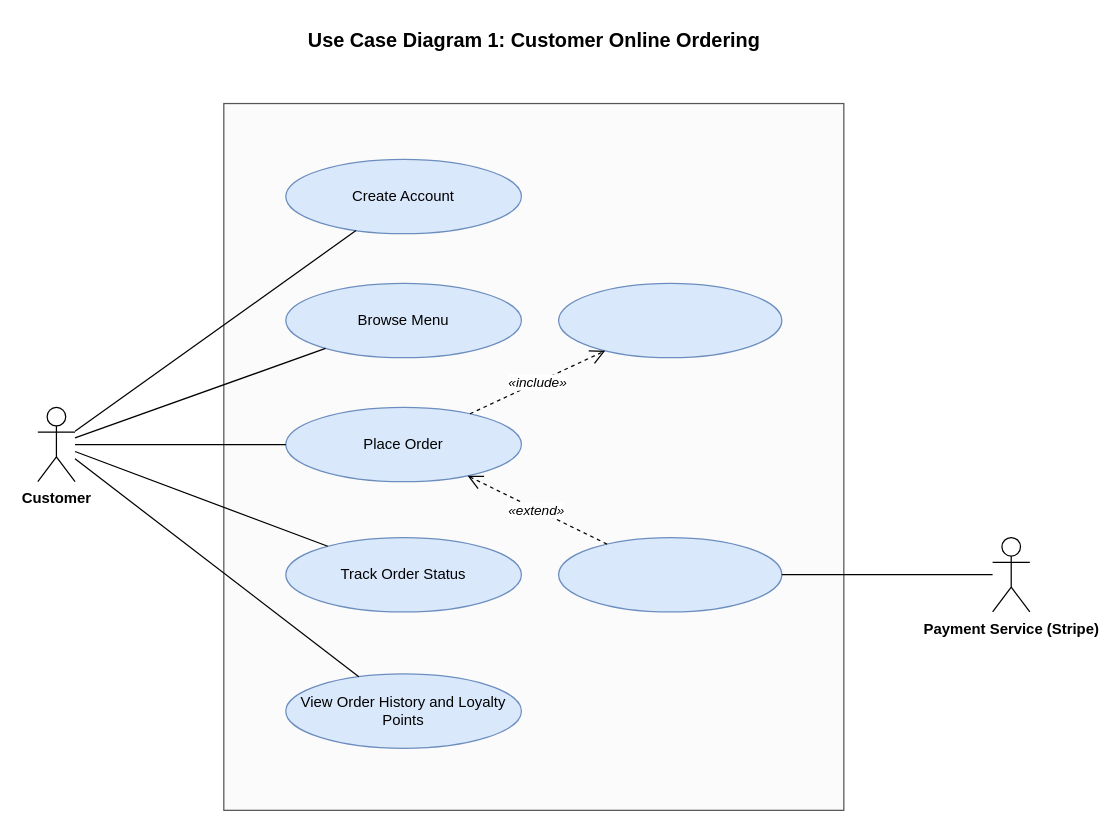
This 1120x832 diagram has some shape labels left out. Here are the shapes that lost their labels. From the top down, the box of each, then its label:
(557, 282, 782, 358): Select Pickup or Delivery
(223, 102, 844, 810): Table for One: Online Ordering System
(557, 536, 782, 612): Pay Online
